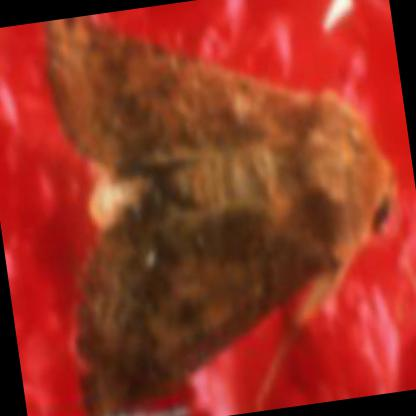helicoverpa: (42, 17, 398, 416)
